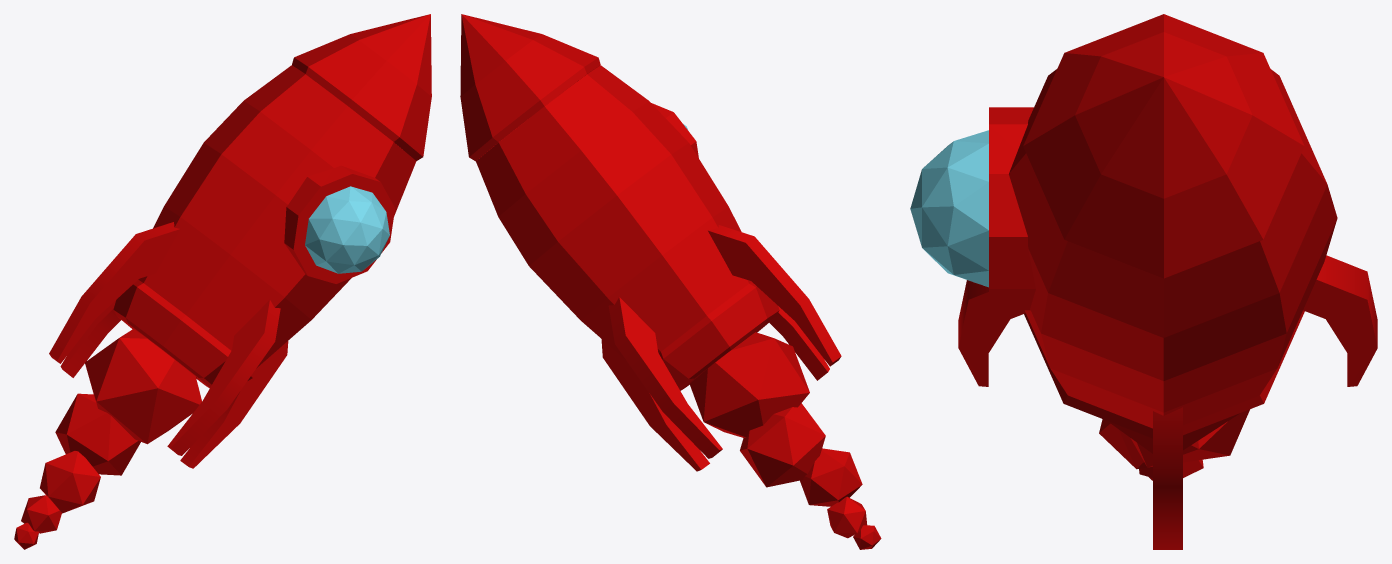
The model's file is Rocket_Ship_-_Low_Poly.glb.
The picture shows the model from 3 angles, left to right: view 1: azimuth 30°, elevation 25°; view 2: azimuth 150°, elevation 25°; view 3: azimuth 270°, elevation 25°; orthographic projection. The views are drawn at different scales.
Parts seen in each view (by area): view 1: Rocket Ship 01_Material #27_0, Rocket Ship 01_Material #28_0, Rocket Ship 01_Material #42_0, Rocket Ship 01_Material #29_0, Rocket Ship 01_Material #30_0; view 2: Rocket Ship 01_Material #27_0, Rocket Ship 01_Material #28_0, Rocket Ship 01_Material #42_0, Rocket Ship 01_Material #29_0; view 3: Rocket Ship 01_Material #28_0, Rocket Ship 01_Material #27_0, Rocket Ship 01_Material #29_0, Rocket Ship 01_Material #30_0, Rocket Ship 01_Material #42_0.
Part boxes in pixels (x1,y1,x2,y2): Rocket Ship 01_Material #27_0: (138,65,416,368); Rocket Ship 01_Material #28_0: (49,14,431,468); Rocket Ship 01_Material #42_0: (14,329,201,549); Rocket Ship 01_Material #29_0: (113,165,395,388); Rocket Ship 01_Material #30_0: (305,186,389,273); Rocket Ship 01_Material #27_0: (476,65,751,359); Rocket Ship 01_Material #28_0: (460,14,841,471); Rocket Ship 01_Material #42_0: (689,332,881,549); Rocket Ship 01_Material #29_0: (651,103,779,390); Rocket Ship 01_Material #28_0: (958,14,1377,549); Rocket Ship 01_Material #27_0: (1009,69,1337,428); Rocket Ship 01_Material #29_0: (989,107,1304,438); Rocket Ship 01_Material #30_0: (910,130,988,287); Rocket Ship 01_Material #42_0: (1099,409,1249,480).
Size of the model in its own units: 1.36 by 1.36 by 0.7715.
